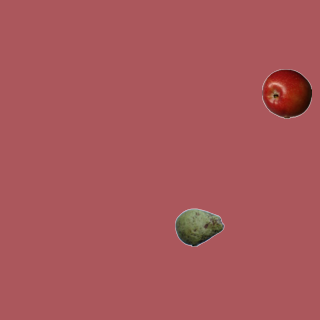Apple Braeburn: (261, 68, 311, 118)
Pear Stone: (174, 202, 224, 252)
